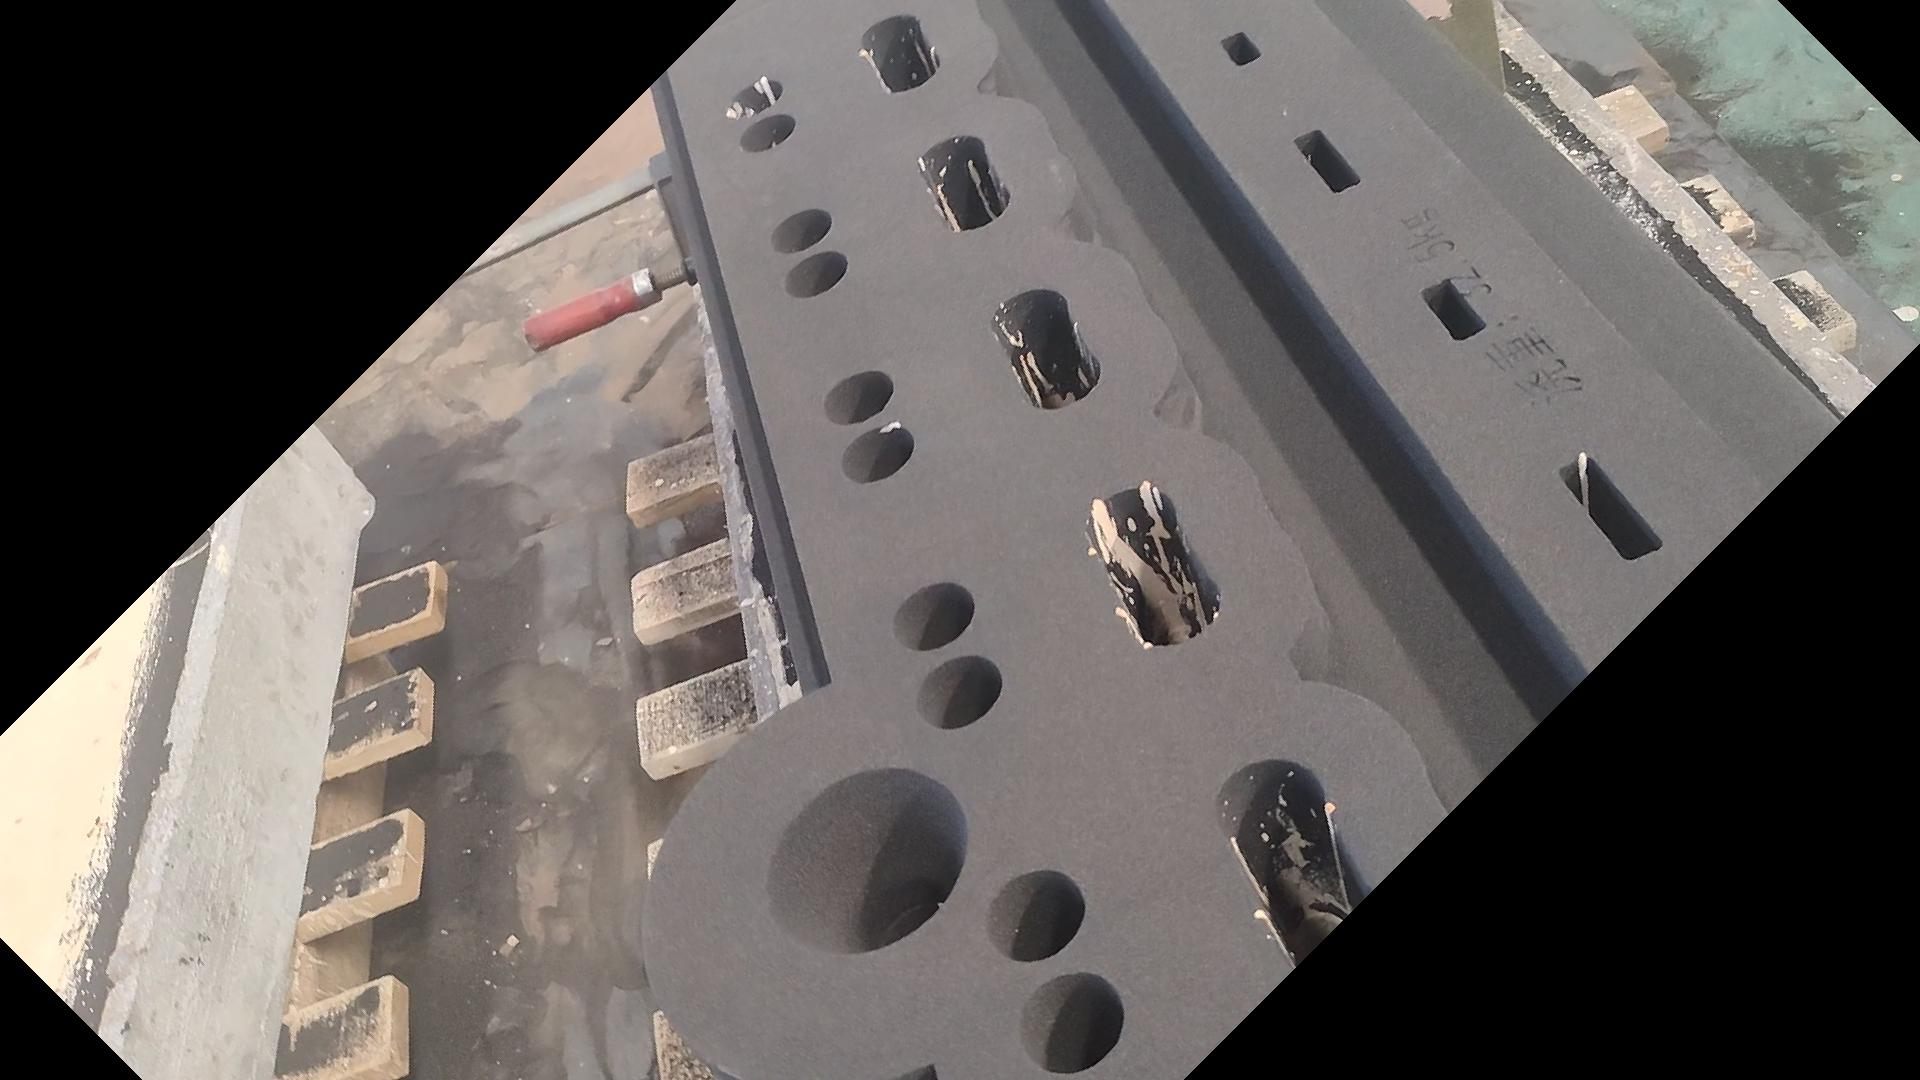pouring hole: (760, 767, 971, 961)
